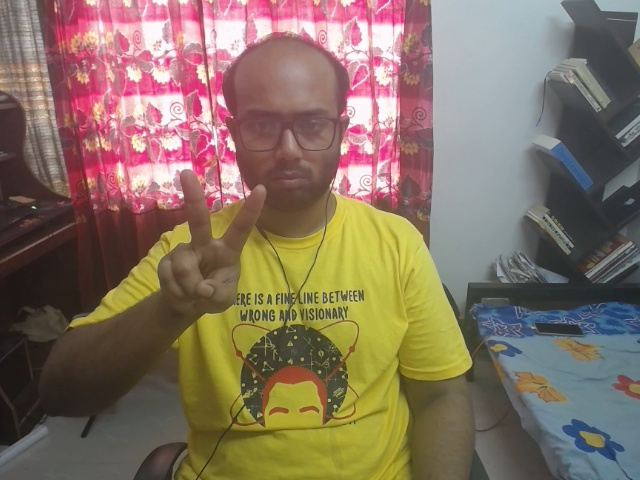two: (136, 148, 300, 334)
